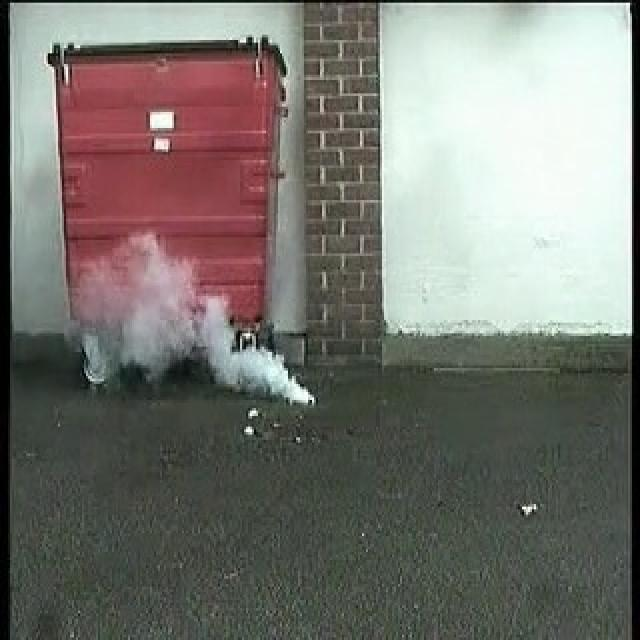Smoke: (80, 233, 312, 404)
